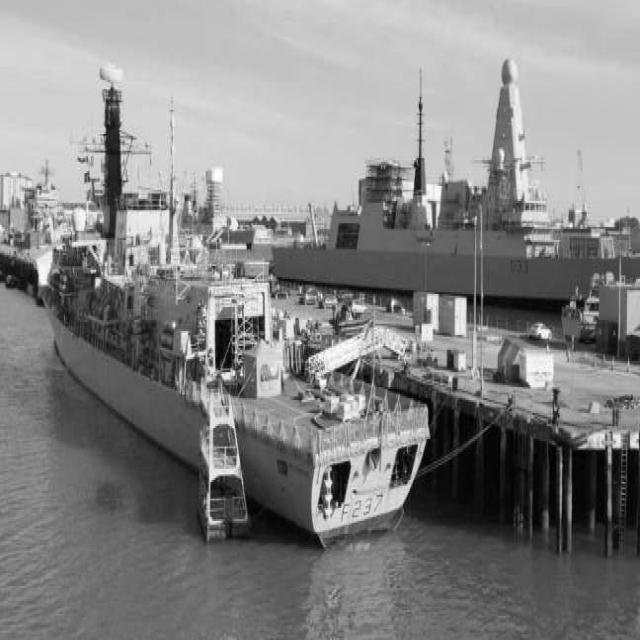Fragata: (31, 68, 439, 552)
